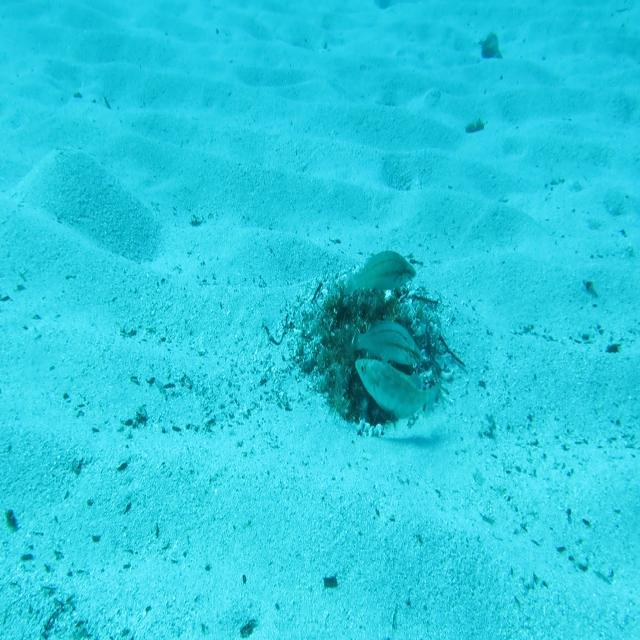DAN_CIRC: (354, 355, 441, 421)
female: (342, 247, 417, 301), (345, 320, 423, 367)
nest: (282, 261, 456, 444)
vegetation: (481, 30, 504, 61), (464, 116, 488, 134), (320, 574, 340, 590)
